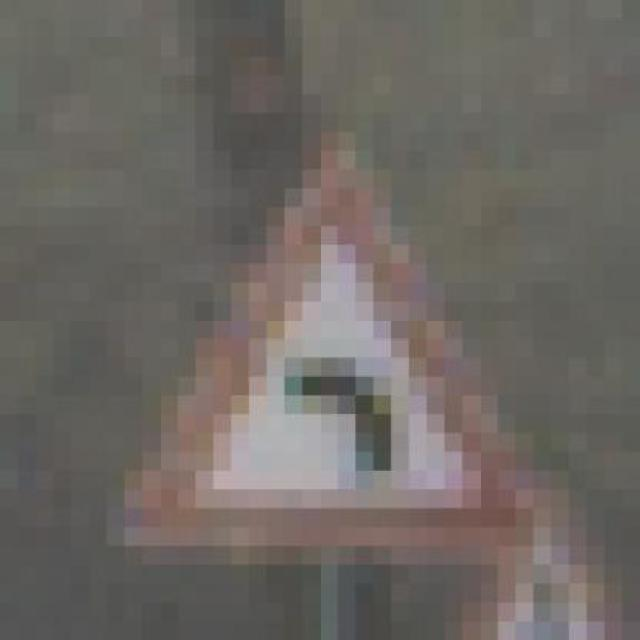Dangerous Left Curve Ahead: (89, 132, 533, 546)
